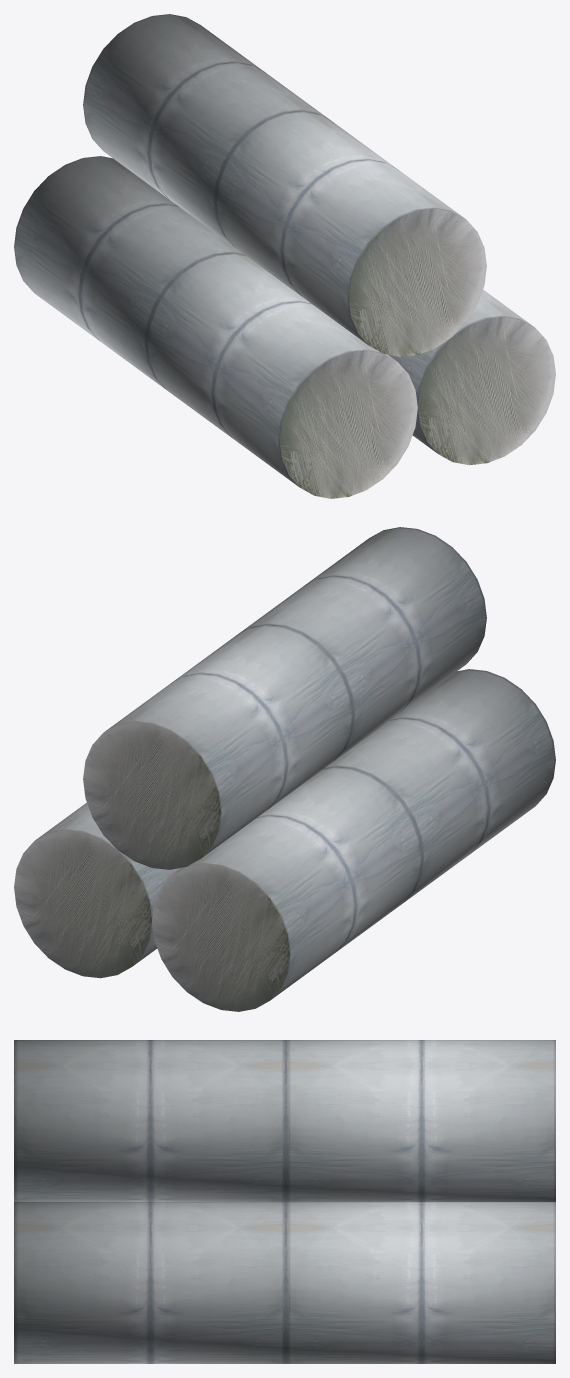
File: hay-bale-plastic-3x4-cbj_LOD00.gltf
3 views of the same model, one above another, from view 1: azimuth 30°, elevation 25°; view 2: azimuth 150°, elevation 25°; view 3: azimuth 270°, elevation 25° (orthographic).
Parts seen in each view (by area): view 1: Cube; view 2: Cube; view 3: Cube.
Boxes of the visible parts, bbox=[...] form: Cube: bbox=[14, 14, 555, 498]; Cube: bbox=[14, 527, 555, 1011]; Cube: bbox=[14, 1040, 555, 1363].
Bounding box in the file's own units: 3.6 × 3.36 × 6.
